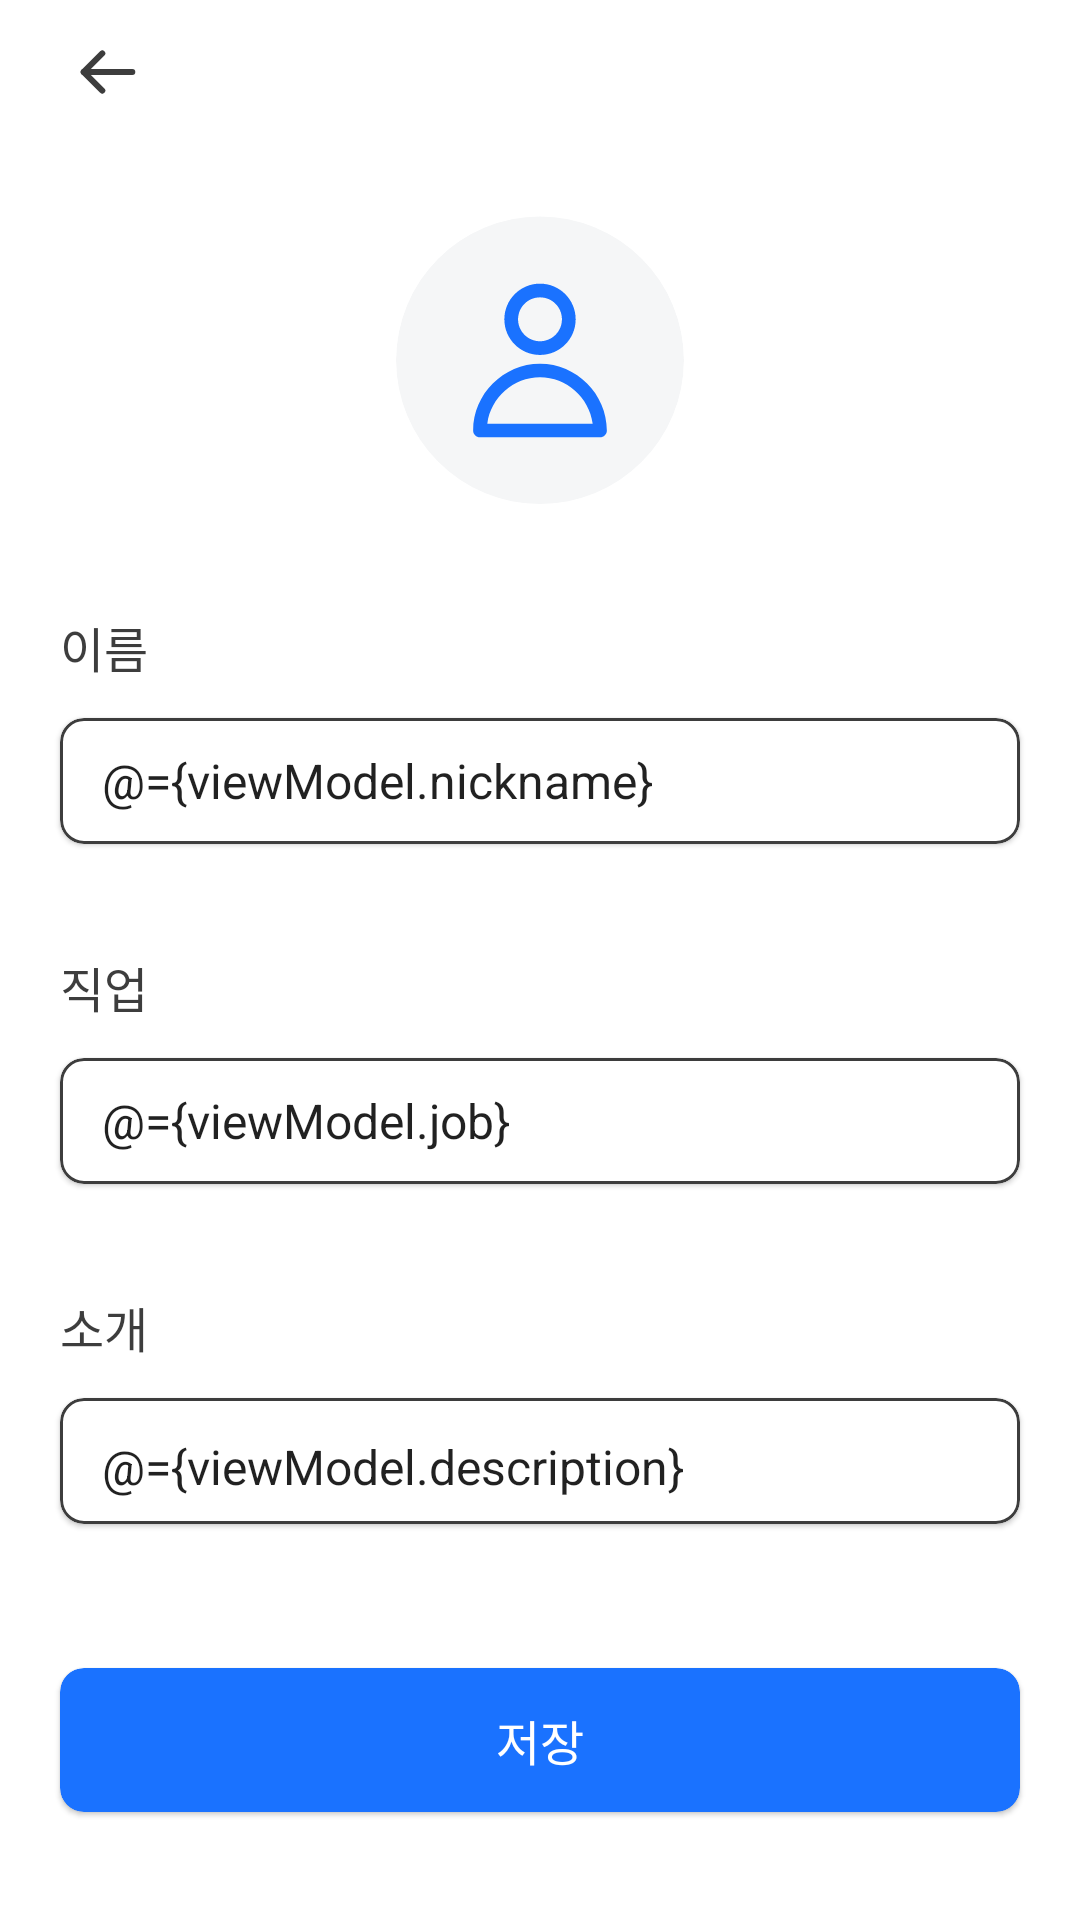

Named icons in this screenshot (1080*1920) and their bounding boxes, (x1, y1, x2, y2):
back: (80, 50, 136, 94)
defaultprofile: (396, 217, 684, 504)
